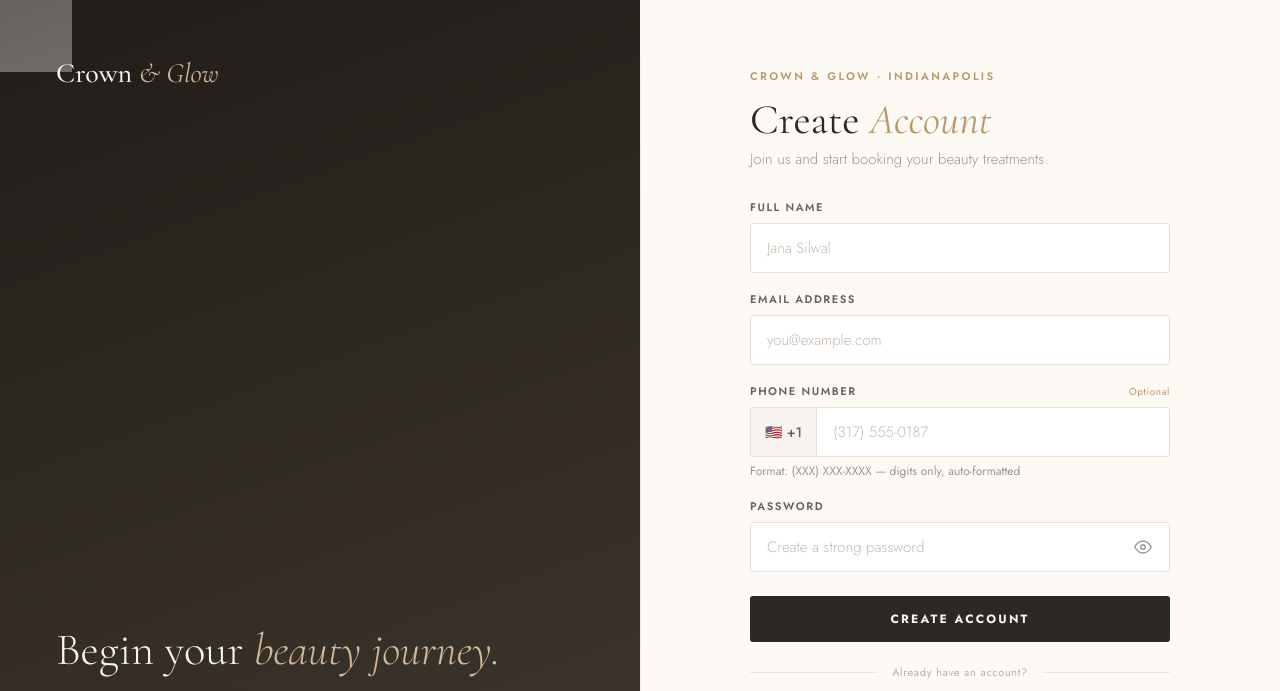
Scenario: <RegisterPage /> › auto-formats the phone number as digits are typed
Type "3175550187" into the field labelled "Phone Number Optional". click: (993, 432)
box: [816,407,1170,457]
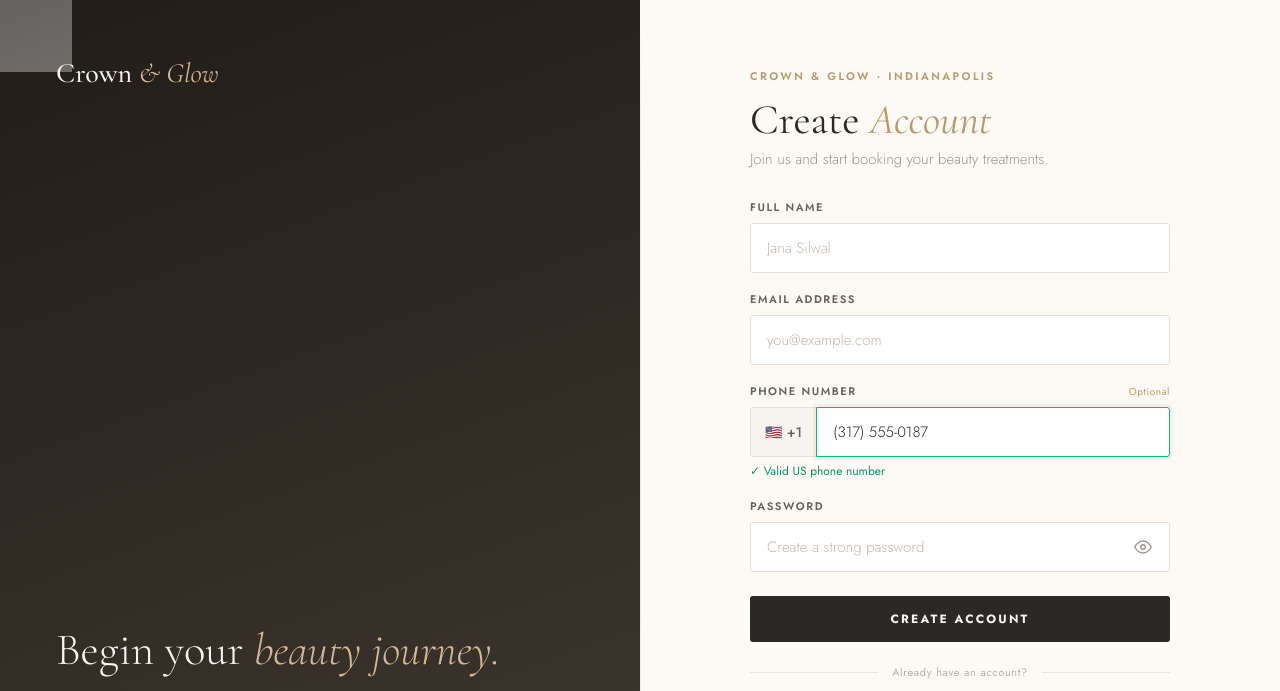
Check: the field labelled "Phone Number Optional" holds "(317) 555-0187", box [816,407,1170,457]
